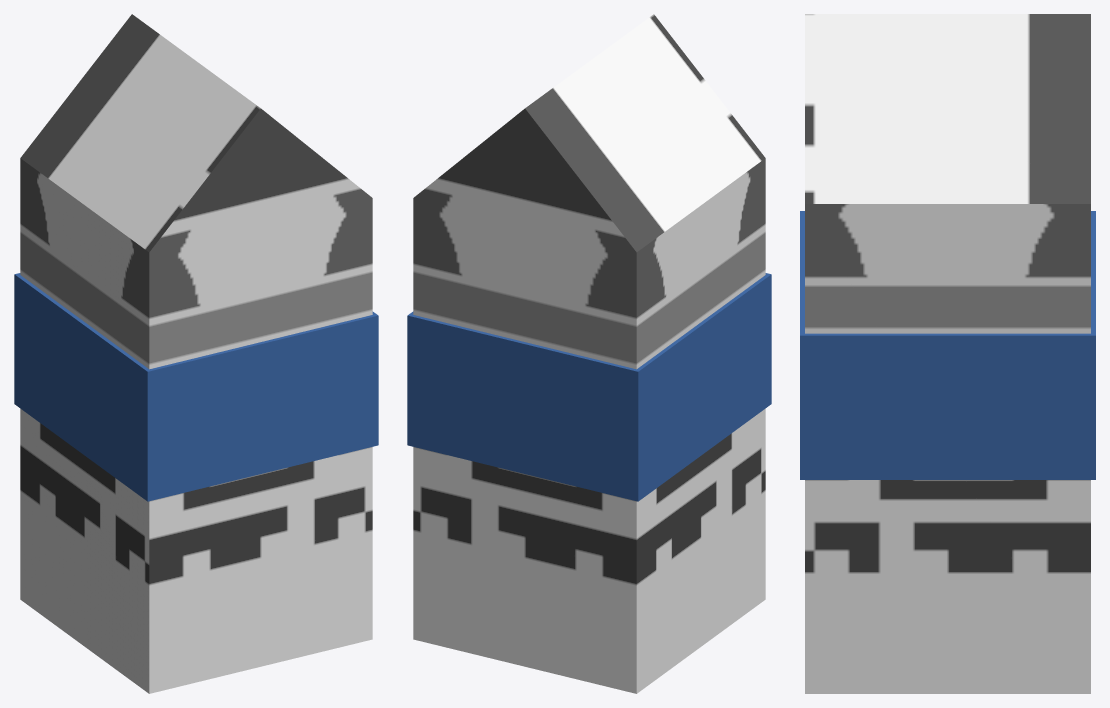
The model's file is p_latte.obj.
3 renders of one model, left to right at view 1: azimuth 30°, elevation 25°; view 2: azimuth 150°, elevation 25°; view 3: azimuth 270°, elevation 25°, orthographic. The views are drawn at different scales.
Visible parts, largest first — view 1: stampa_a_000, liscio_001; view 2: stampa_a_000, liscio_001; view 3: stampa_a_000, liscio_001.
Part boxes in pixels (bbox=[...]): stampa_a_000: bbox=[20, 14, 372, 693]; liscio_001: bbox=[14, 273, 378, 501]; stampa_a_000: bbox=[413, 14, 765, 693]; liscio_001: bbox=[407, 273, 771, 501]; stampa_a_000: bbox=[805, 14, 1090, 693]; liscio_001: bbox=[800, 211, 1095, 479].
Size of the model in its own units: 0.093 by 0.215 by 0.093.
2 materials, 1 textured.
